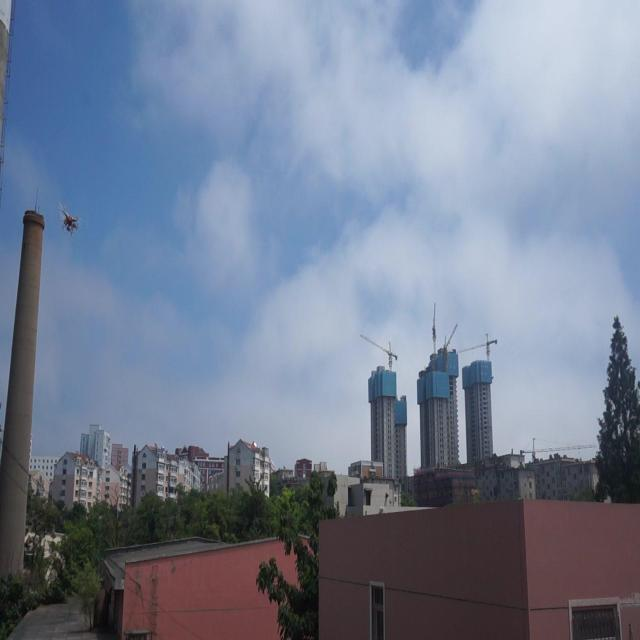drone: (55, 202, 83, 243)
